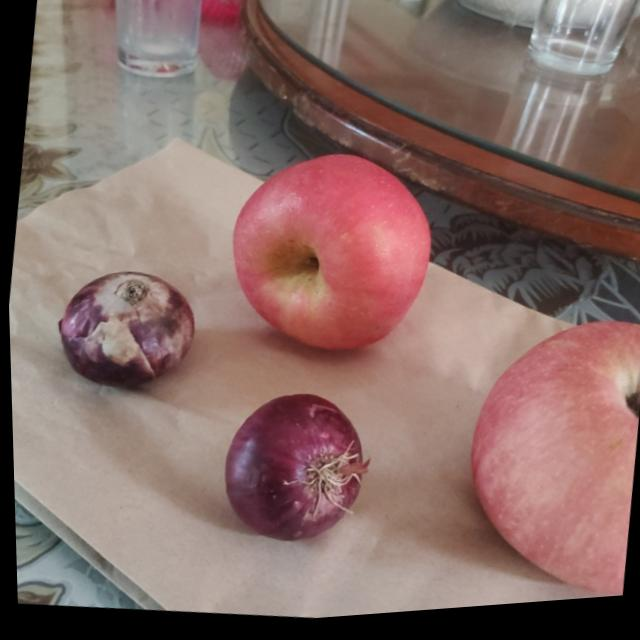apple: (451, 306, 640, 614), (214, 141, 442, 371)
onion: (209, 380, 369, 549), (52, 259, 199, 396)
